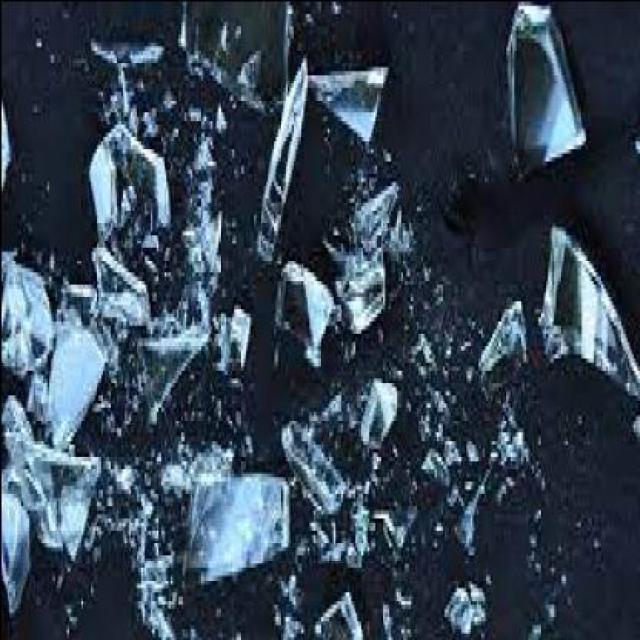GLASS: (534, 230, 638, 402), (502, 4, 582, 188), (174, 4, 288, 124), (252, 48, 308, 267), (182, 479, 282, 587), (81, 139, 173, 250), (42, 304, 103, 454), (304, 62, 384, 160), (320, 193, 397, 279), (0, 251, 52, 377), (282, 426, 342, 522), (38, 460, 93, 562), (2, 398, 48, 512), (133, 336, 193, 422), (272, 270, 326, 365), (151, 442, 229, 501), (154, 274, 214, 348), (2, 464, 30, 616), (334, 262, 381, 346), (180, 205, 231, 282), (473, 304, 522, 378), (456, 452, 490, 553), (207, 308, 248, 382), (356, 492, 404, 554), (131, 562, 169, 636), (360, 377, 391, 460), (86, 40, 160, 74), (442, 575, 483, 636), (493, 410, 524, 484), (97, 65, 134, 127), (310, 599, 358, 639), (186, 122, 217, 181), (120, 472, 158, 520), (304, 398, 345, 438), (83, 508, 117, 554), (385, 222, 410, 270), (345, 534, 370, 574), (188, 172, 208, 222), (25, 390, 44, 435), (125, 115, 152, 144), (312, 534, 338, 561), (125, 529, 143, 566), (155, 91, 177, 118), (377, 603, 392, 639), (626, 419, 639, 447), (390, 595, 405, 611), (210, 111, 224, 127), (521, 631, 537, 638)
